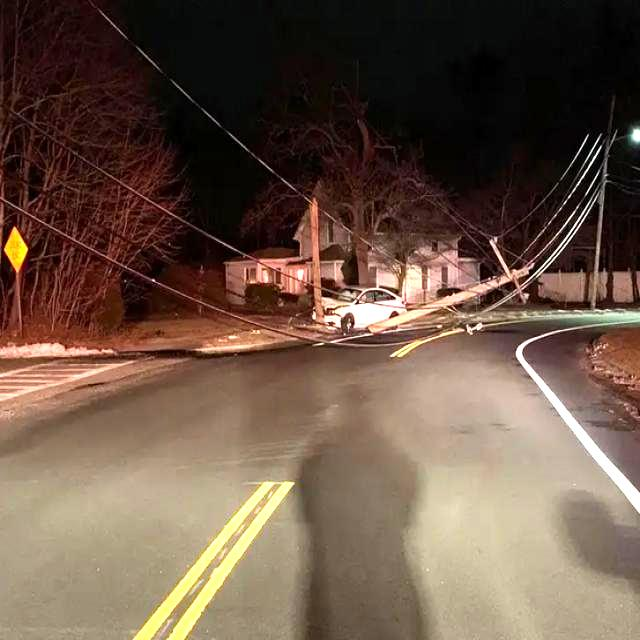Broken Pole: (364, 232, 538, 342)
